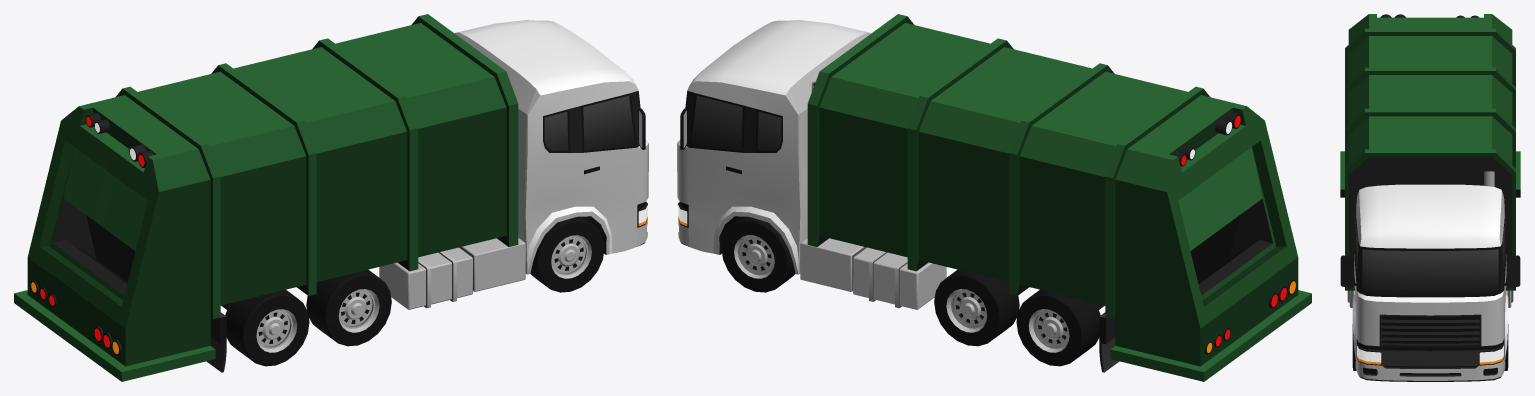
File: Truck_009.glb
3 views of the same model, side by side, from view 1: azimuth 30°, elevation 25°; view 2: azimuth 150°, elevation 25°; view 3: azimuth 270°, elevation 25° (orthographic). The views are drawn at different scales.
Parts seen in each view (by area): view 1: Truck_009, wheel_5_Truck_009_Wheel_3R, wheel_3_Truck_009_Wheel_2R, wheel_1_Truck_009_Wheel_1R; view 2: Truck_009, wheel_4_Truck_009_Wheel_3L, wheel_2_Truck_009_Wheel_2L, wheel_0_Truck_009_Wheel_1L; view 3: Truck_009.
Part boxes in pixels (x1,y1,x2,y2): Truck_009: [14, 14, 648, 381]; wheel_5_Truck_009_Wheel_3R: [225, 289, 309, 366]; wheel_3_Truck_009_Wheel_2R: [306, 269, 391, 346]; wheel_1_Truck_009_Wheel_1R: [530, 216, 604, 292]; Truck_009: [677, 14, 1311, 381]; wheel_4_Truck_009_Wheel_3L: [1016, 289, 1100, 366]; wheel_2_Truck_009_Wheel_2L: [934, 269, 1019, 346]; wheel_0_Truck_009_Wheel_1L: [721, 216, 795, 292]; Truck_009: [1340, 14, 1520, 381].
Bounding box in the file's own units: 7.31 × 2.93 × 2.5.
2 materials, 2 textured.
